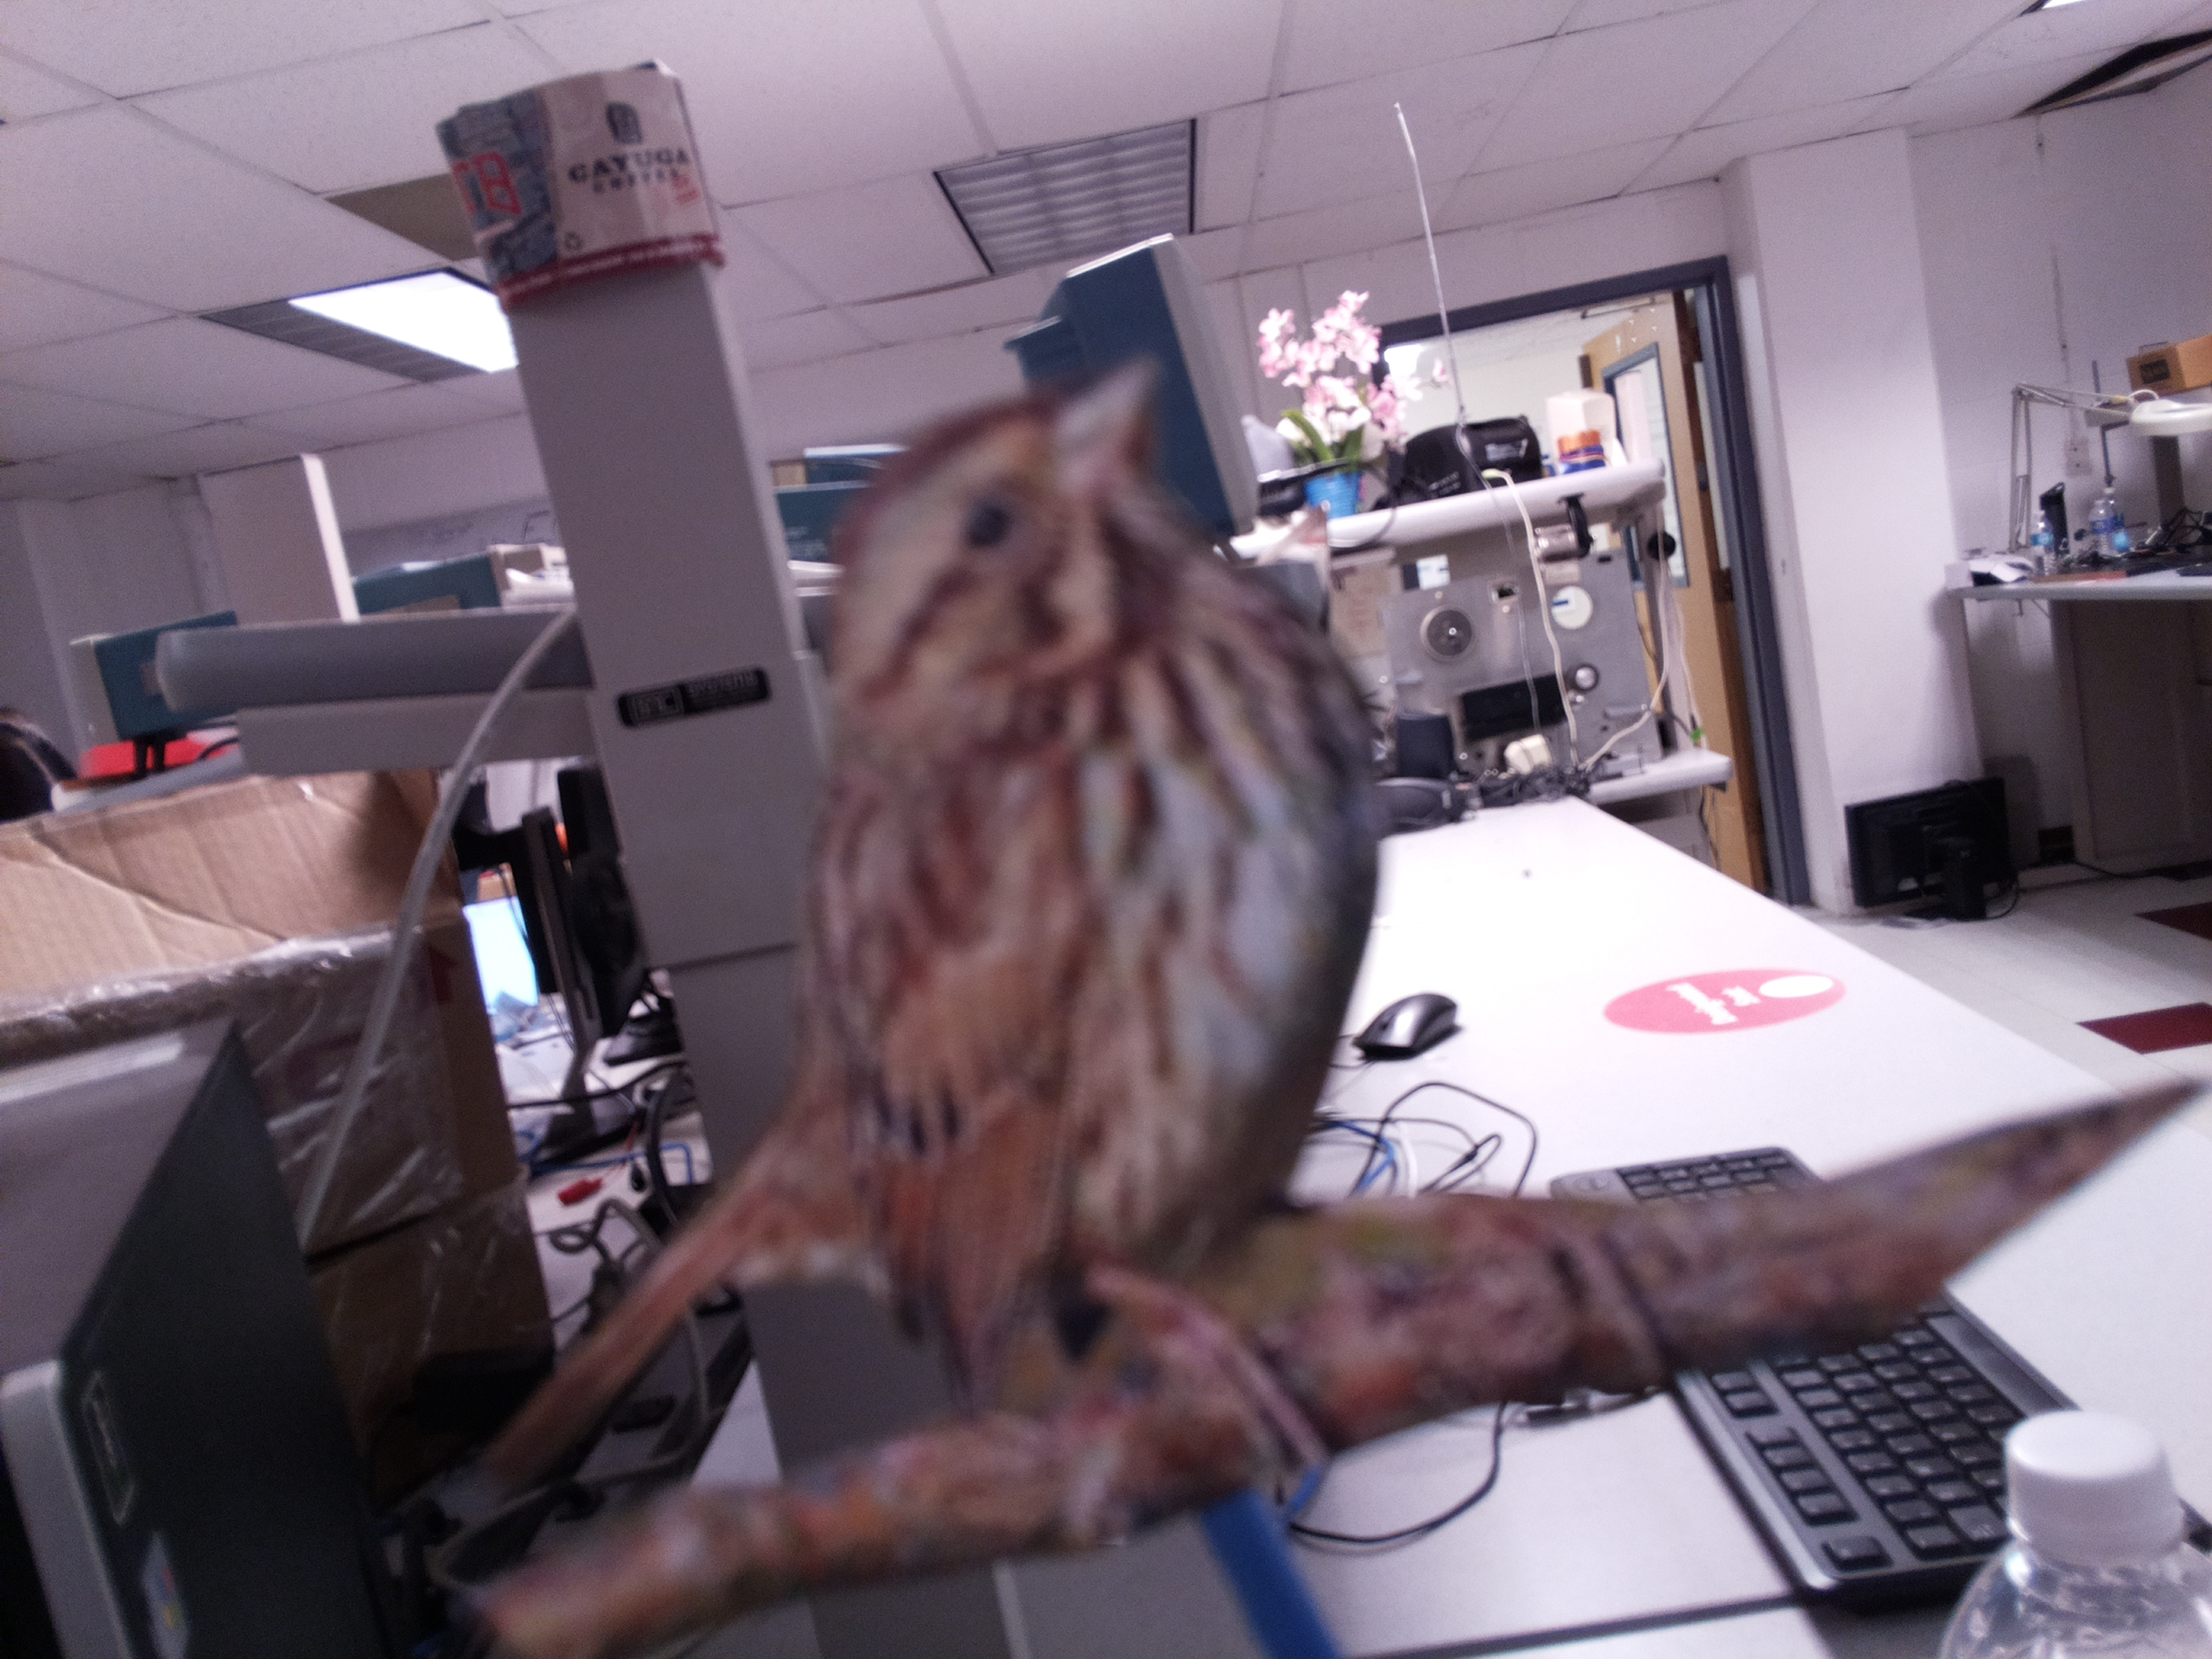bird: (430, 336, 1409, 1535)
